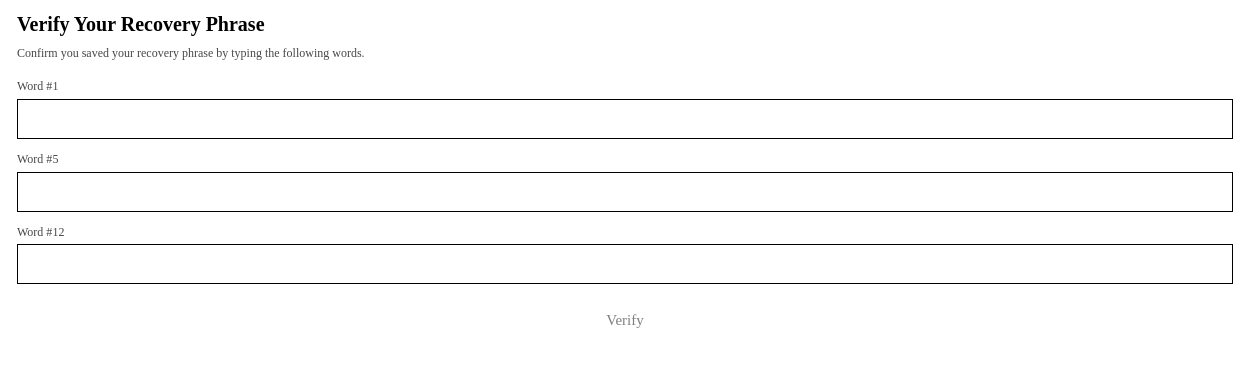
MnemonicVerify (B5.1, Pattern A) › shows error when any word is wrong, does NOT fire onVerified
Type "abandon" into the field labelled "Word #1".
click(625, 119); type("abandon")  # box [17,99,1233,139]
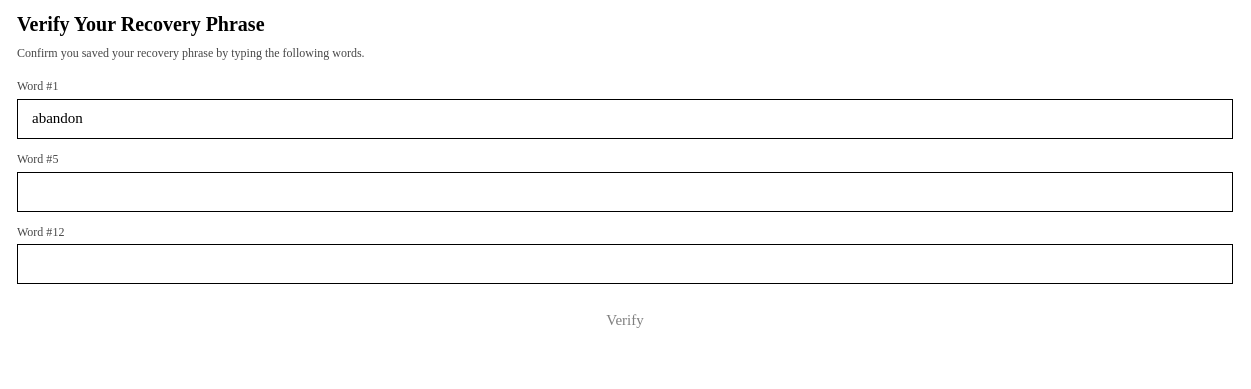
Type "wrong" into the field labelled "Word #5".
click(625, 192); type("wrong")  # box [17,172,1233,212]
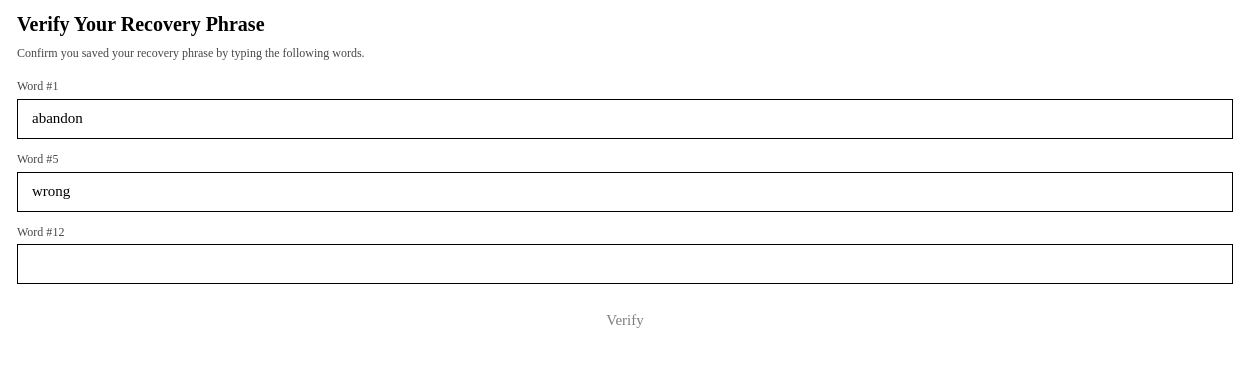
Type "accident" into the field labelled "Word #12".
click(625, 264); type("accident")  # box [17,244,1233,284]
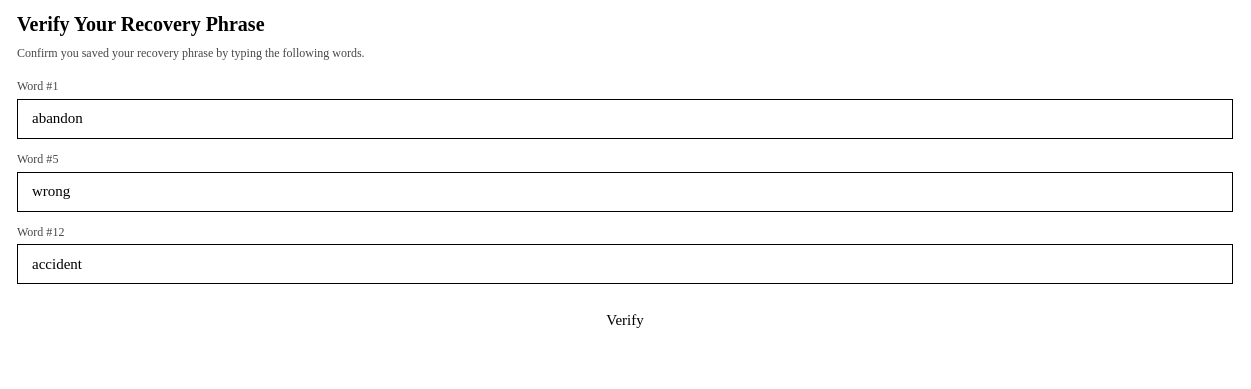
Click the button "Verify".
click(625, 320)  # box [17,300,1233,340]
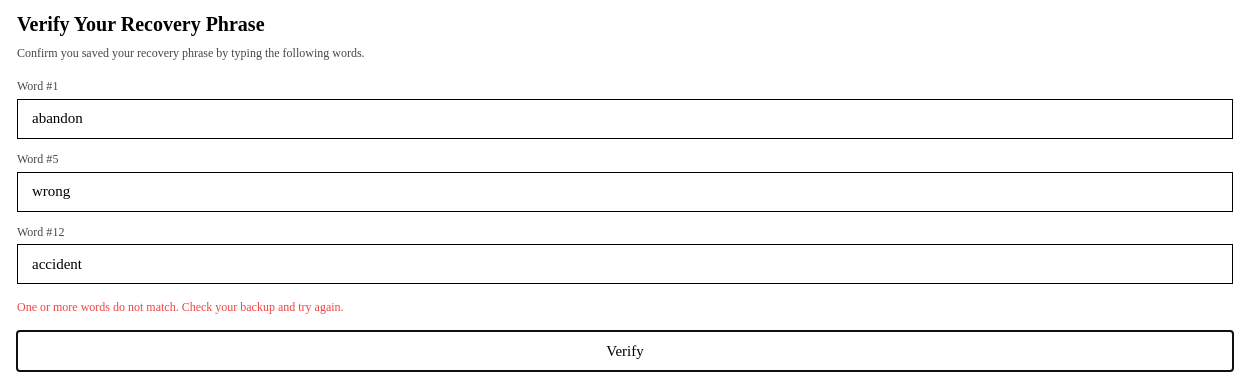
Result: the message shows "do not match" at [17,300,344,314]
